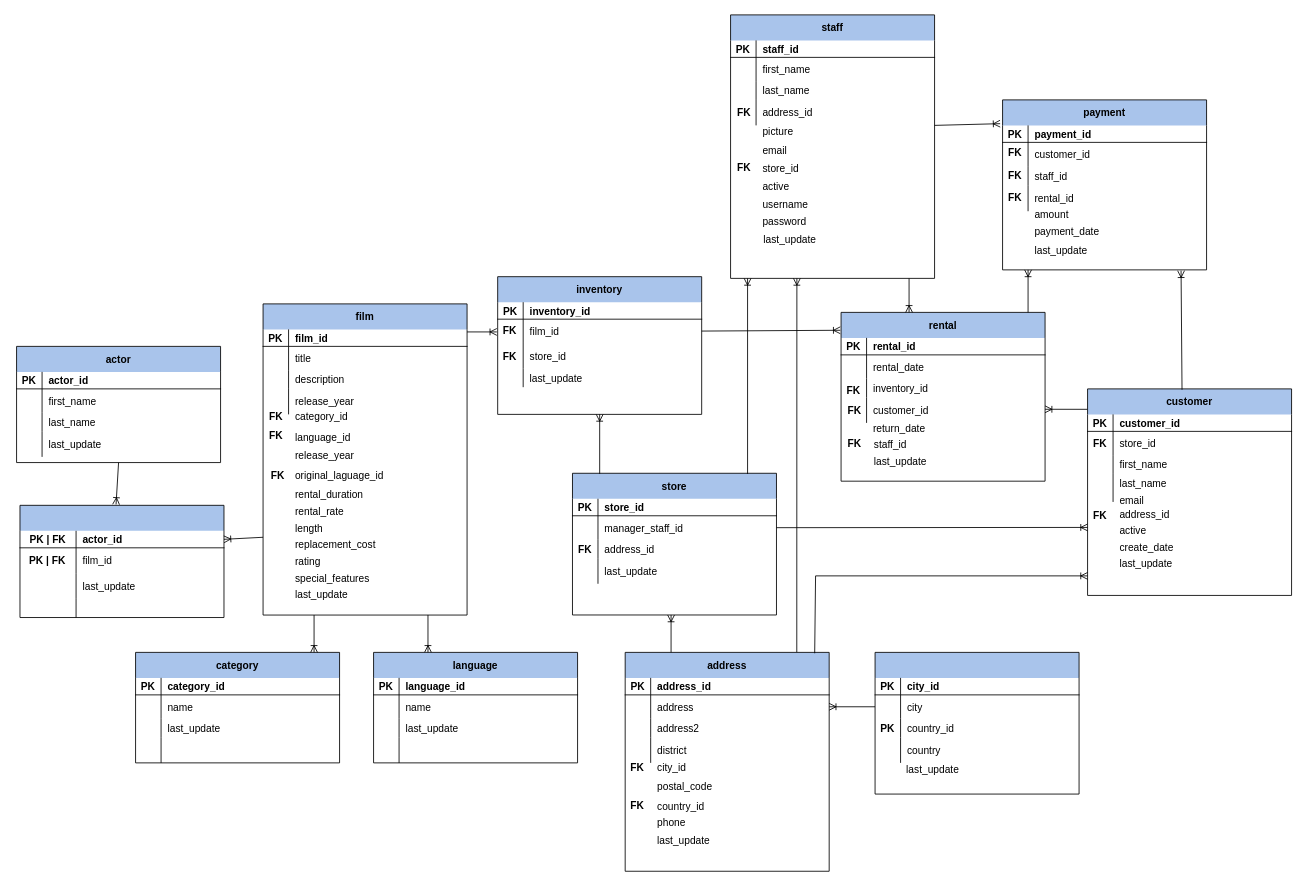
The diagram is 1314 pixels wide and 887 high, and some of its shapes have lost their labels. The box of each missing label's shape, as (x1, y1, x2, y2) in pixels:
city_country: (874, 652, 1079, 794)
film_actor: (19, 504, 224, 618)
